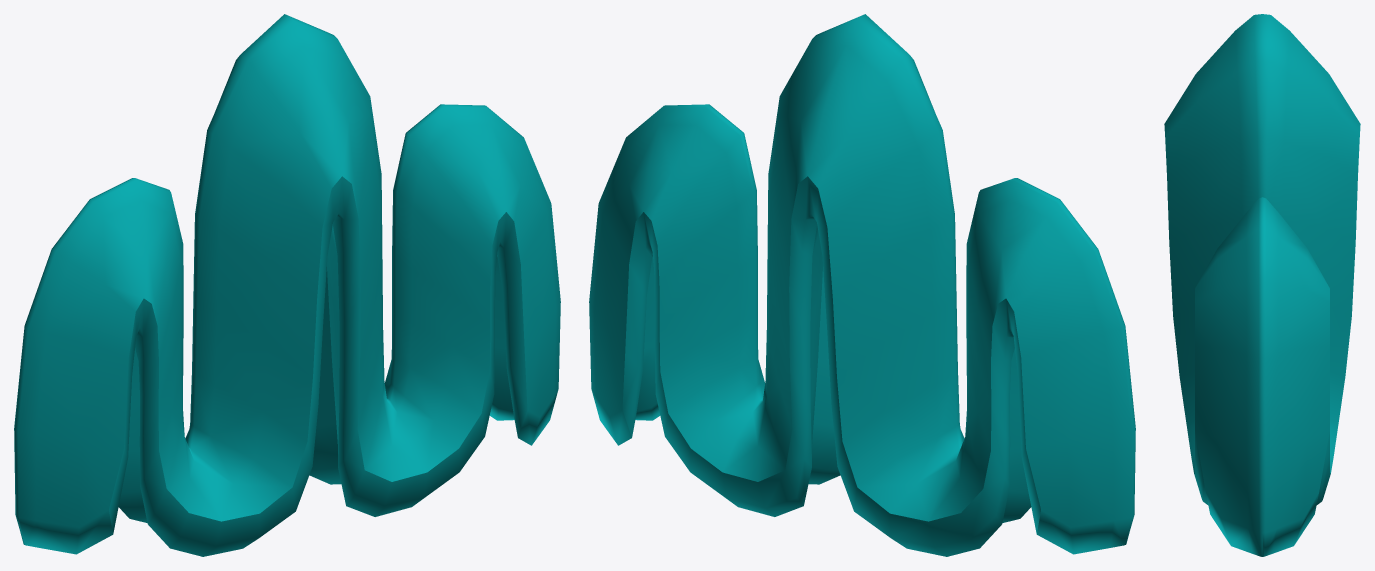
File: Bush_2.gltf
The picture shows the model from 3 angles, left to right: view 1: azimuth 30°, elevation 25°; view 2: azimuth 150°, elevation 25°; view 3: azimuth 270°, elevation 25°; orthographic projection. The views are drawn at different scales.
Parts seen in each view (by area): view 1: Bush_2; view 2: Bush_2; view 3: Bush_2.
Boxes of the visible parts, bbox=[...] form: Bush_2: bbox=[14, 14, 560, 556]; Bush_2: bbox=[589, 14, 1135, 556]; Bush_2: bbox=[1164, 14, 1360, 556].
Bounding box in the file's own units: 1.82 × 1.6 × 0.6207.
1 material, 1 textured.
